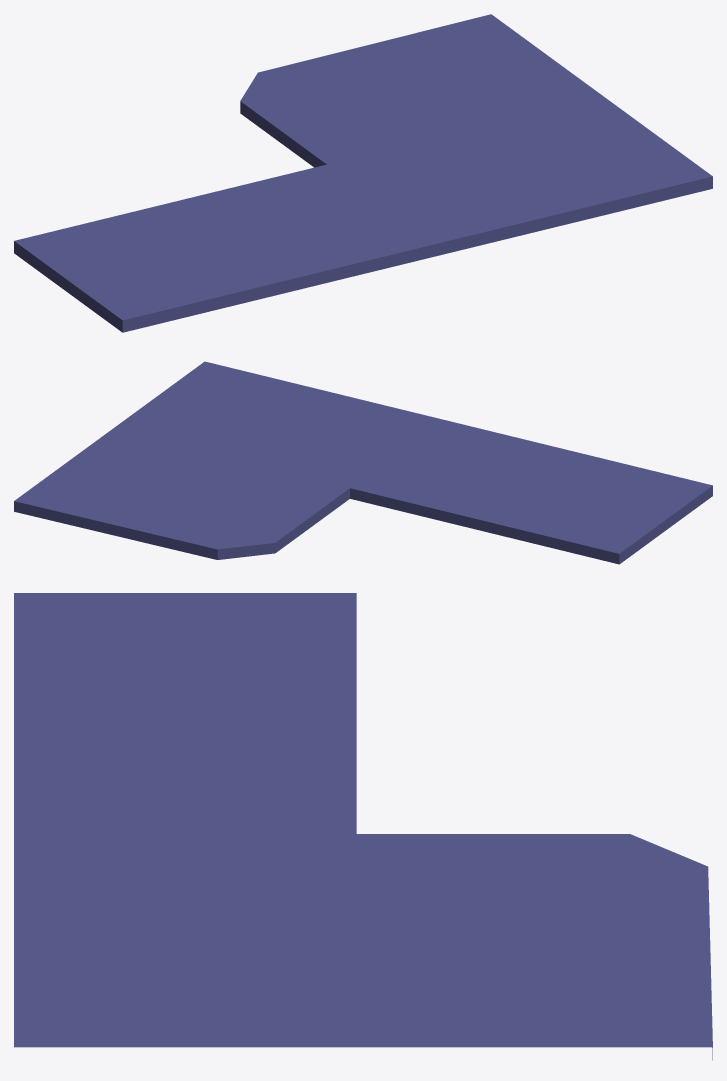
File: NC_Ground04.fbx
The picture shows the model from 3 angles, top to bottom: view 1: azimuth 30°, elevation 25°; view 2: azimuth 150°, elevation 25°; view 3: azimuth 270°, elevation 25°; orthographic projection. The views are drawn at different scales.
Visible parts, largest first — view 1: NC_Ground04; view 2: NC_Ground04; view 3: NC_Ground04.
Boxes of the visible parts, left/top/right/bottom form: NC_Ground04: left=14, top=14, right=712, bottom=332; NC_Ground04: left=14, top=361, right=712, bottom=564; NC_Ground04: left=14, top=593, right=712, bottom=1060.
Size of the model in its own units: 465 by 9.3 by 303.
Materials: 1 (1 with a texture image).
